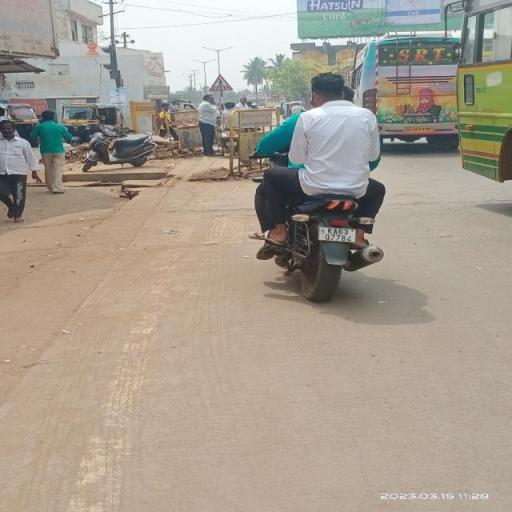bike: (245, 73, 397, 302)
numberplate: (317, 225, 361, 245)
withouthelmet: (312, 74, 344, 102)
